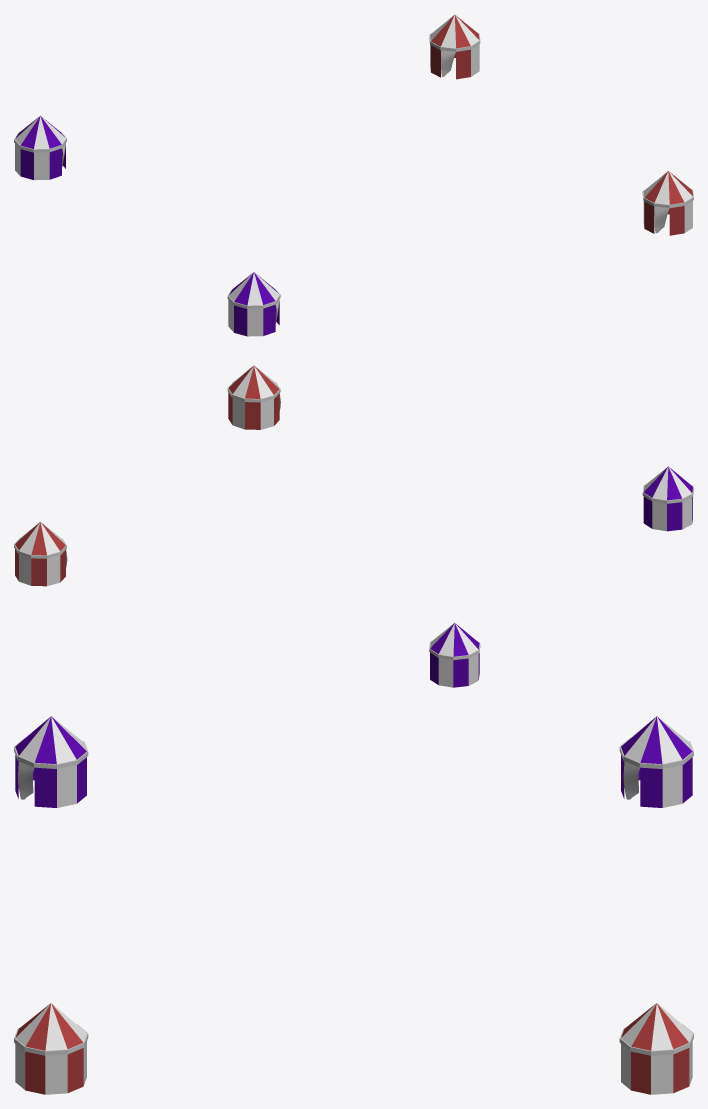
The model's file is ColorTents.fbx.
3 views of the same model, one above another, from view 1: azimuth 30°, elevation 25°; view 2: azimuth 150°, elevation 25°; view 3: azimuth 270°, elevation 25° (orthographic). The views are drawn at different scales.
Visible parts, largest first — view 1: LB_TENT, LT_TENT, RB_TENT, RT_TENT; view 2: RB_TENT, RT_TENT, LB_TENT, LT_TENT; view 3: RB_TENT, RT_TENT, LB_TENT, LT_TENT.
Part boxes in pixels (x1,y1,x2,y2): LB_TENT: [227, 272, 280, 336]; LT_TENT: [14, 115, 66, 180]; RB_TENT: [642, 171, 693, 235]; RT_TENT: [429, 14, 480, 79]; RB_TENT: [227, 365, 280, 429]; RT_TENT: [14, 522, 67, 586]; LB_TENT: [642, 466, 693, 531]; LT_TENT: [429, 623, 480, 687]; RB_TENT: [14, 1003, 88, 1094]; RT_TENT: [619, 1003, 693, 1094]; LB_TENT: [14, 716, 88, 807]; LT_TENT: [619, 716, 693, 807].
Size of the model in its own units: 62.13 by 7 by 56.13.
